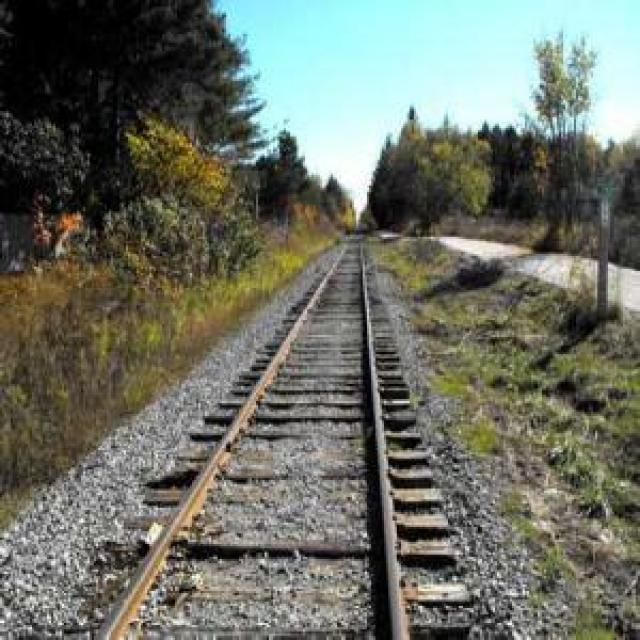rail: (53, 230, 488, 640)
